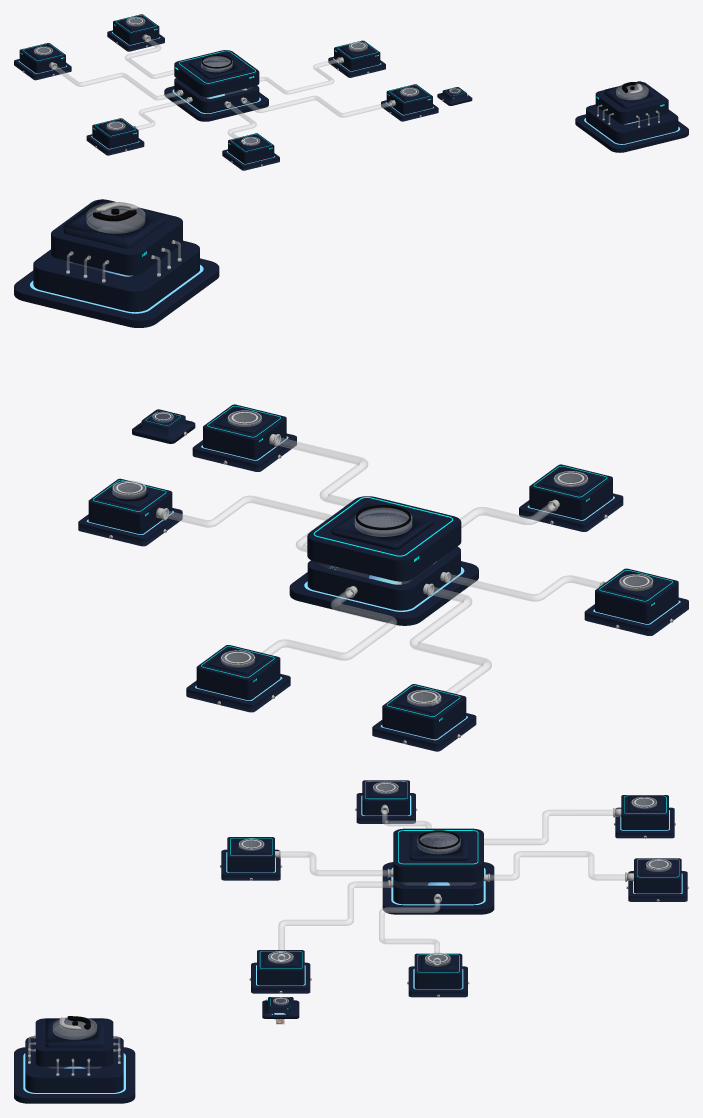
Rendered from Synehcroncity(4).glb.
3 views of the same model, one above another, from view 1: azimuth 30°, elevation 25°; view 2: azimuth 150°, elevation 25°; view 3: azimuth 270°, elevation 25° (orthographic). The views are drawn at different scales.
Parts seen in each view (by area): view 1: Synechron_platform.001, Synechron_platform, Sub_platform_CTO_Office, Sub_platform_Ai, Sub_platform_Data, Sub_platform_Digital, Sub_platform_Cloud_Dev_ops, Sub_platform_payments, Cube.005, Plane.006, Cube.014, Plane.003 (+7 smaller); view 2: Synechron_platform.001, Synechron_platform, Sub_platform_Digital, Sub_platform_CTO_Office, Sub_platform_payments, Sub_platform_Ai, Sub_platform_Cloud_Dev_ops, Sub_platform_Data, Cube.005, Cube.014, Plane.003, Plane.002 (+7 smaller); view 3: Synechron_platform.001, Synechron_platform, Sub_platform_Cloud_Dev_ops, Sub_platform_Data, Sub_platform_Digital, Sub_platform_Ai, Sub_platform_payments, Sub_platform_CTO_Office, Cube.005, Cube.014, Plane.002, Plane.006 (+6 smaller).
Boxes of the visible parts, x1,y1,x2,y2 form: Synechron_platform.001: (575,82,688,152); Synechron_platform: (164,50,268,121); Sub_platform_CTO_Office: (86,118,144,155); Sub_platform_Ai: (222,133,279,170); Sub_platform_Data: (381,84,438,121); Sub_platform_Digital: (107,14,164,51); Sub_platform_Cloud_Dev_ops: (328,40,385,77); Sub_platform_payments: (14,43,71,80); Cube.005: (189,53,245,79); Plane.006: (243,96,391,117); Cube.014: (604,81,661,108); Plane.003: (52,65,179,99); Synechron_platform.001: (14,199,219,327); Synechron_platform: (289,496,478,625); Sub_platform_Digital: (186,645,290,712); Sub_platform_CTO_Office: (584,568,688,635); Sub_platform_payments: (372,684,476,751); Sub_platform_Ai: (519,464,623,531); Sub_platform_Cloud_Dev_ops: (78,478,182,546); Sub_platform_Data: (192,404,296,471); Cube.005: (331,503,433,549); Cube.014: (63,199,166,248); Plane.003: (410,586,491,700); Plane.002: (262,589,396,660); Synechron_platform.001: (14,1018,135,1103); Synechron_platform: (382,828,494,914); Sub_platform_Cloud_Dev_ops: (408,953,467,997); Sub_platform_Data: (251,950,310,993); Sub_platform_Digital: (628,858,687,901); Sub_platform_Ai: (221,837,280,880); Sub_platform_payments: (615,795,674,838); Sub_platform_CTO_Office: (356,780,415,823); Cube.005: (409,833,468,860); Cube.014: (45,1018,104,1047); Plane.002: (490,851,624,880); Plane.006: (278,881,392,949).
Bounding box in the file's own units: 53.34 × 5.17 × 49.73.
